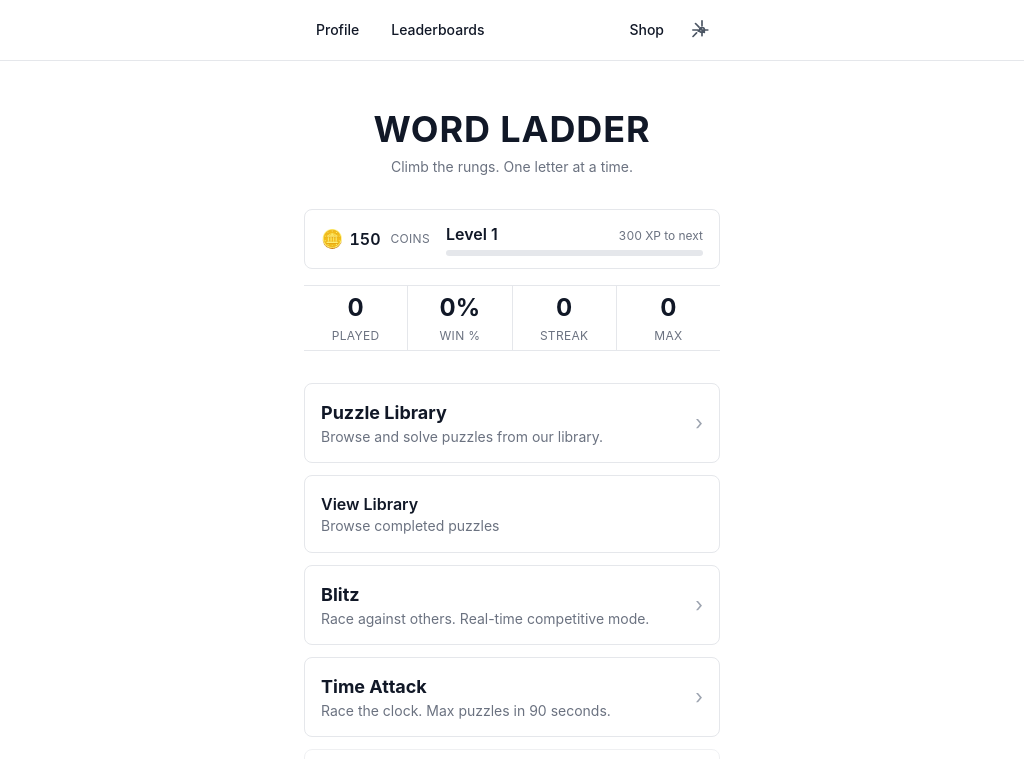
Test: HomePage › should navigate to /progression when StatsStrip is clicked
The image size is (1024, 759).
Expected: the text "Played" is shown, [332,328,380,343]
What coordinates should you click on to do the following:
click the text "Played"
I would click on:
 (512, 318)
Its box is [304,285,720,351].
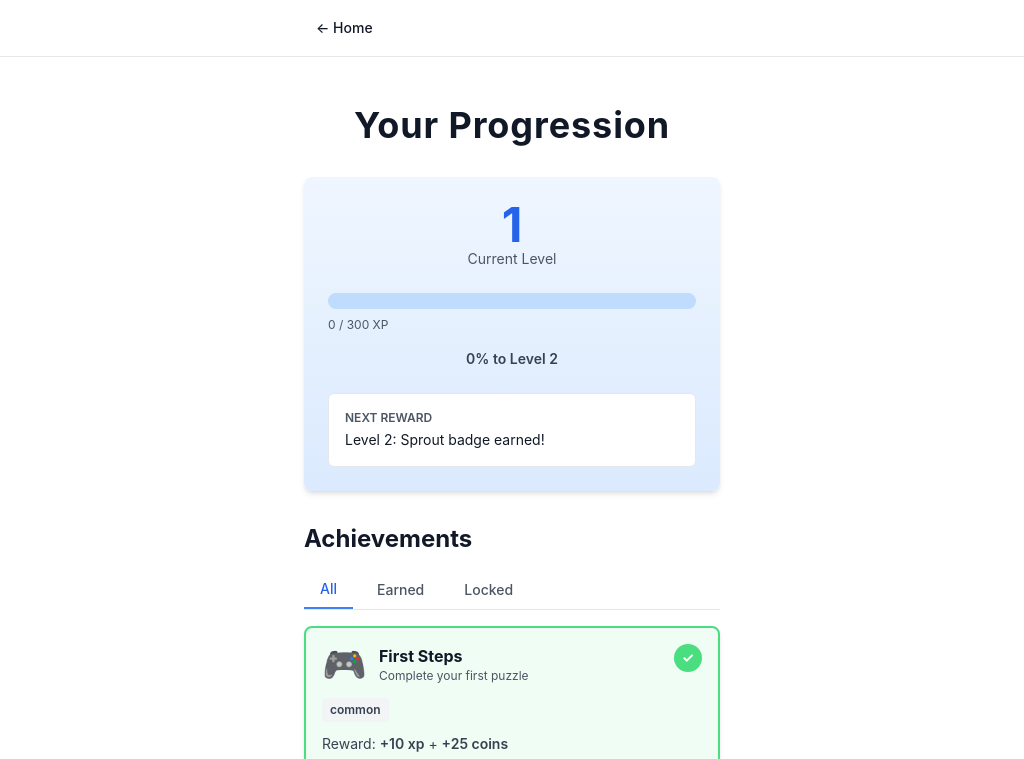
Expected: the heading "Your Progression" is shown, [354,103,670,147]
